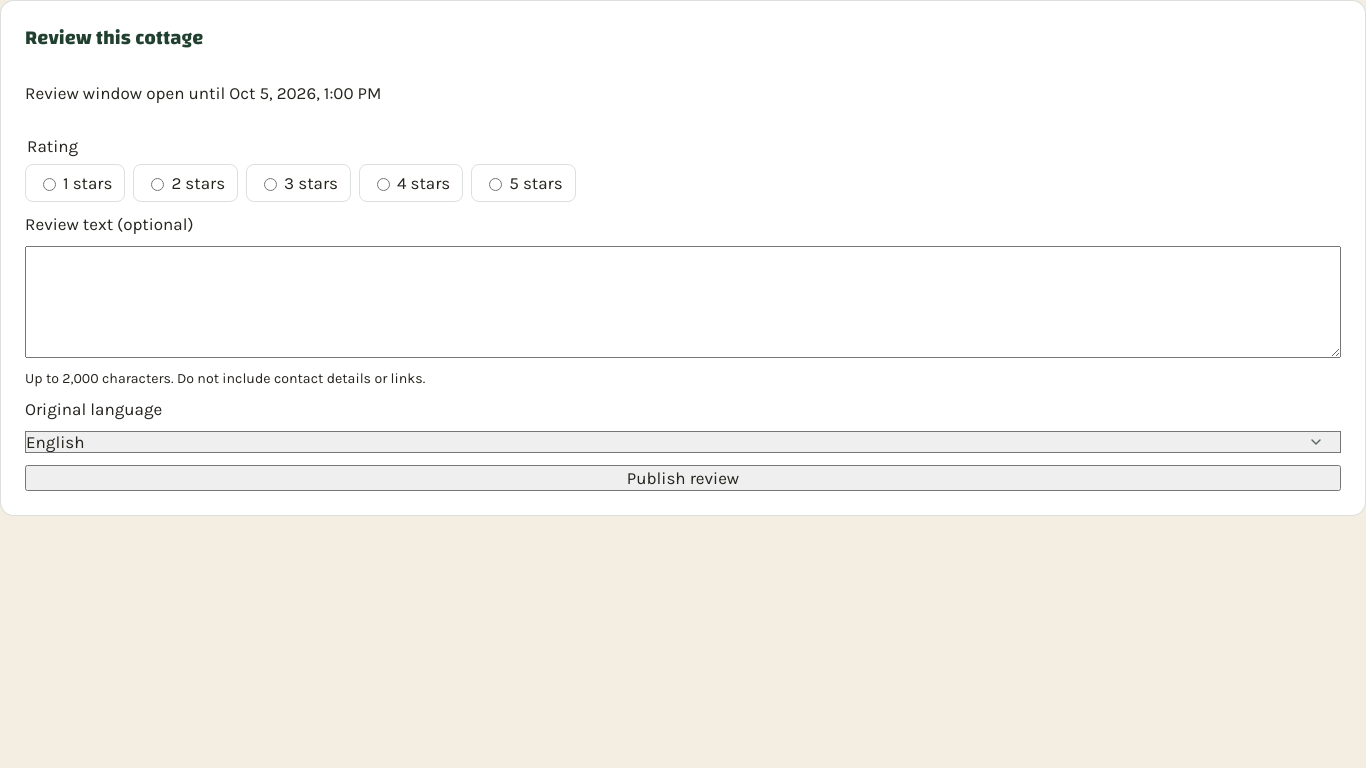
Test: CustomerReviewForm › requires a rating and sends only mutation facts
Click the button "Publish review" at (683, 478), box x1=25 y1=465 x2=1341 y2=491
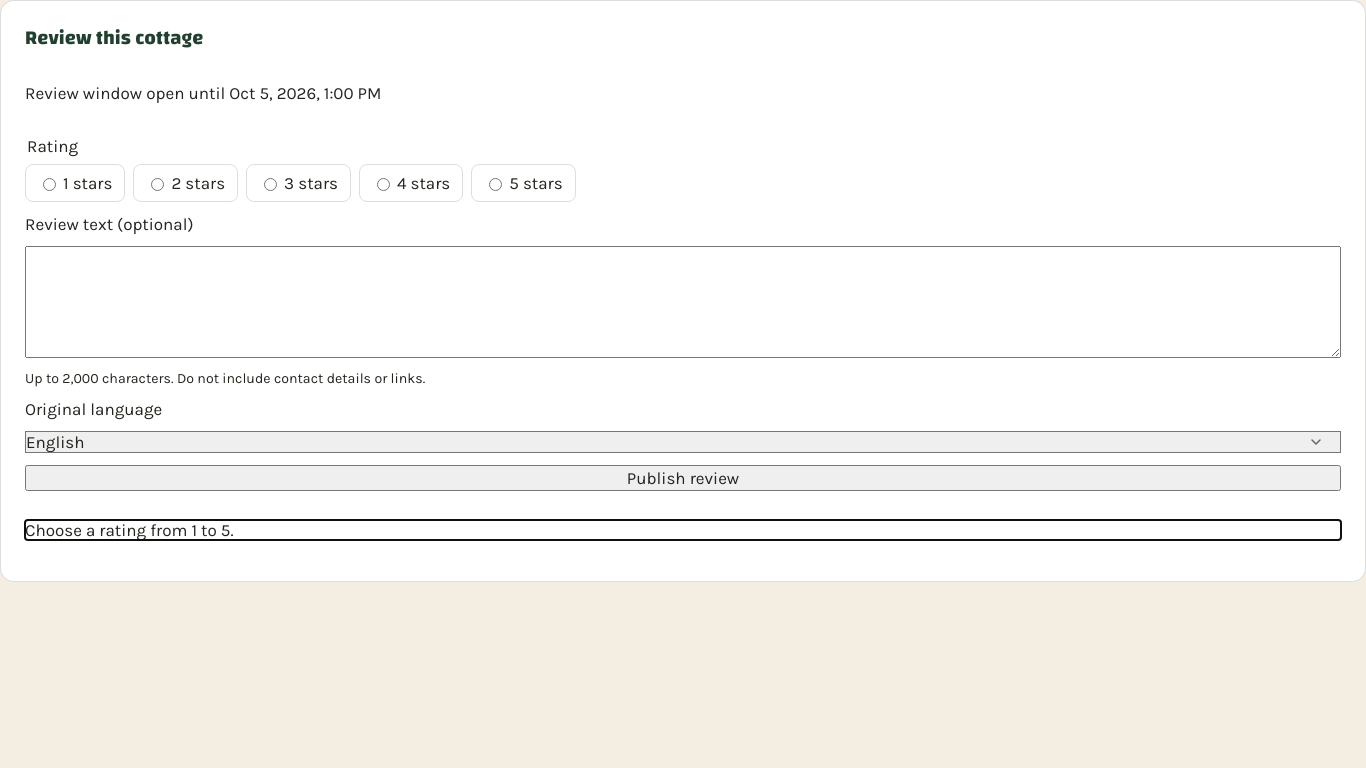
Expected: the message reads "Choose a rating from 1 to 5.", x1=25 y1=520 x2=233 y2=540
Click the radio button labelled "5 stars" at (496, 184), box x1=489 y1=178 x2=502 y2=191
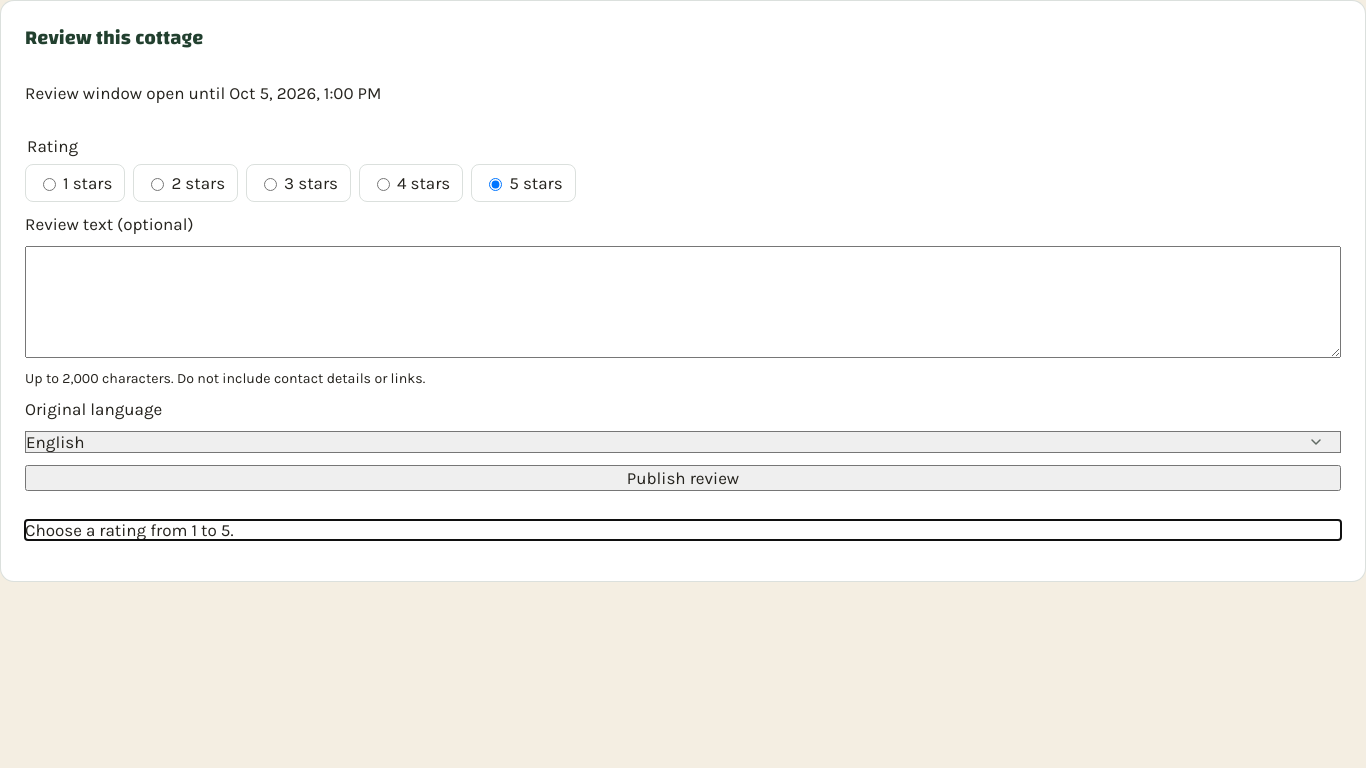
Type "إقامة هادئة وجميلة" into the text box labelled "Review text (optional)" at (683, 302), box x1=25 y1=246 x2=1341 y2=358
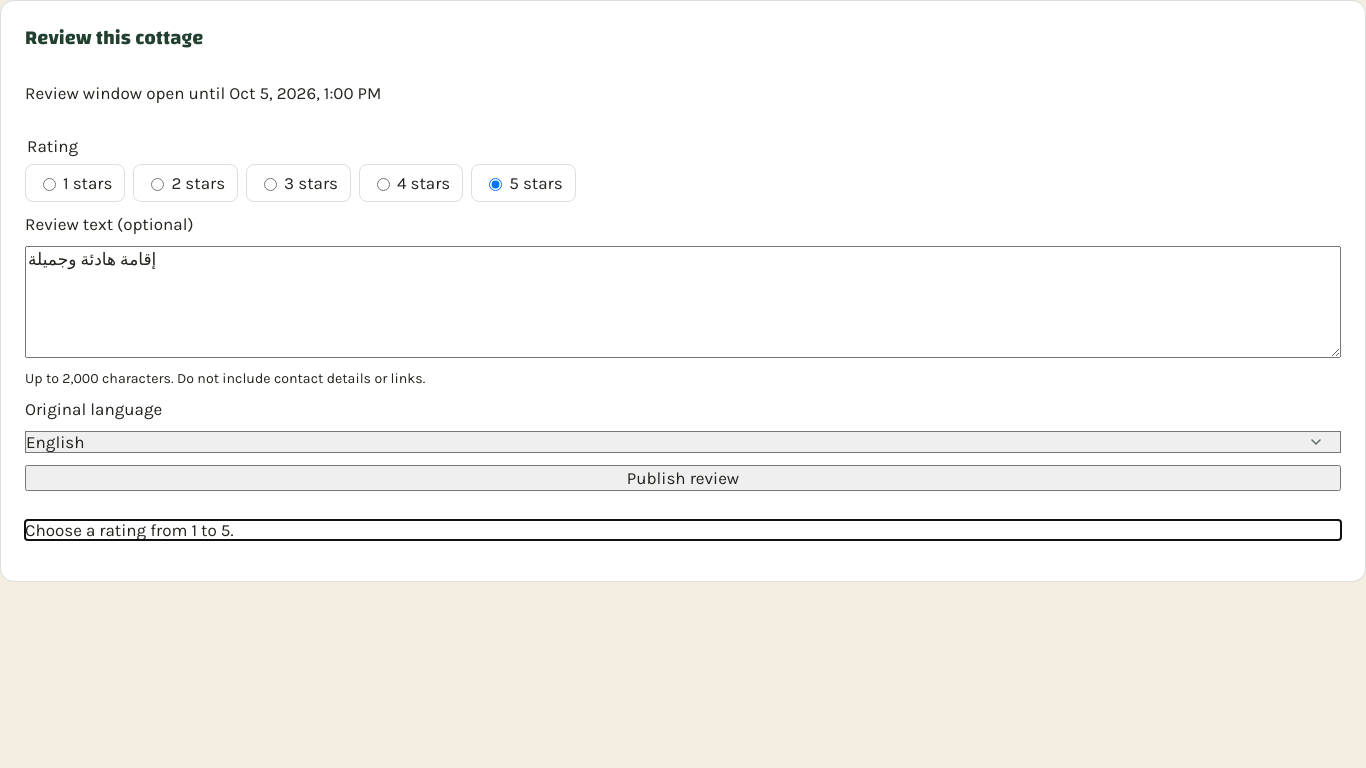
Select "العربية" in the dropdown labelled "Original language" at (683, 442), box x1=25 y1=431 x2=1341 y2=453
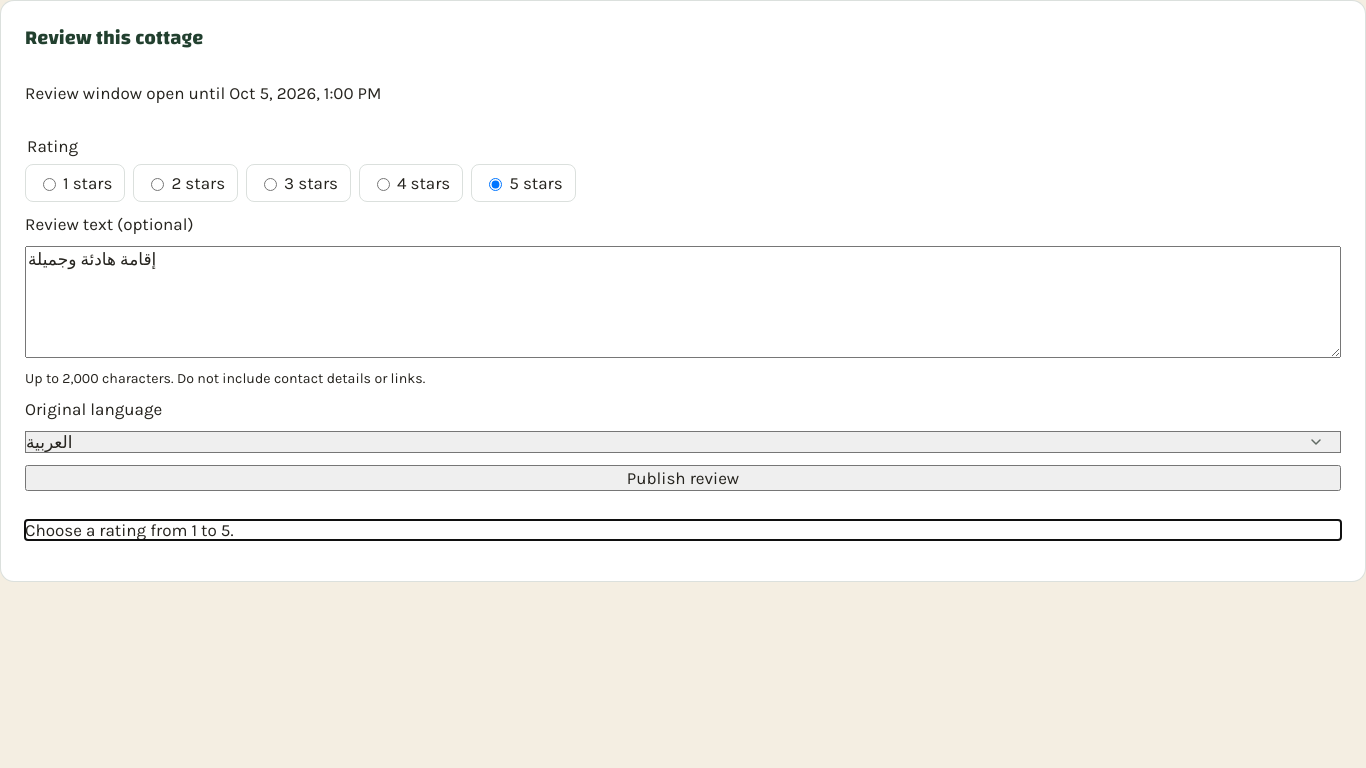
Click the button "Publish review" at (683, 478), box x1=25 y1=465 x2=1341 y2=491
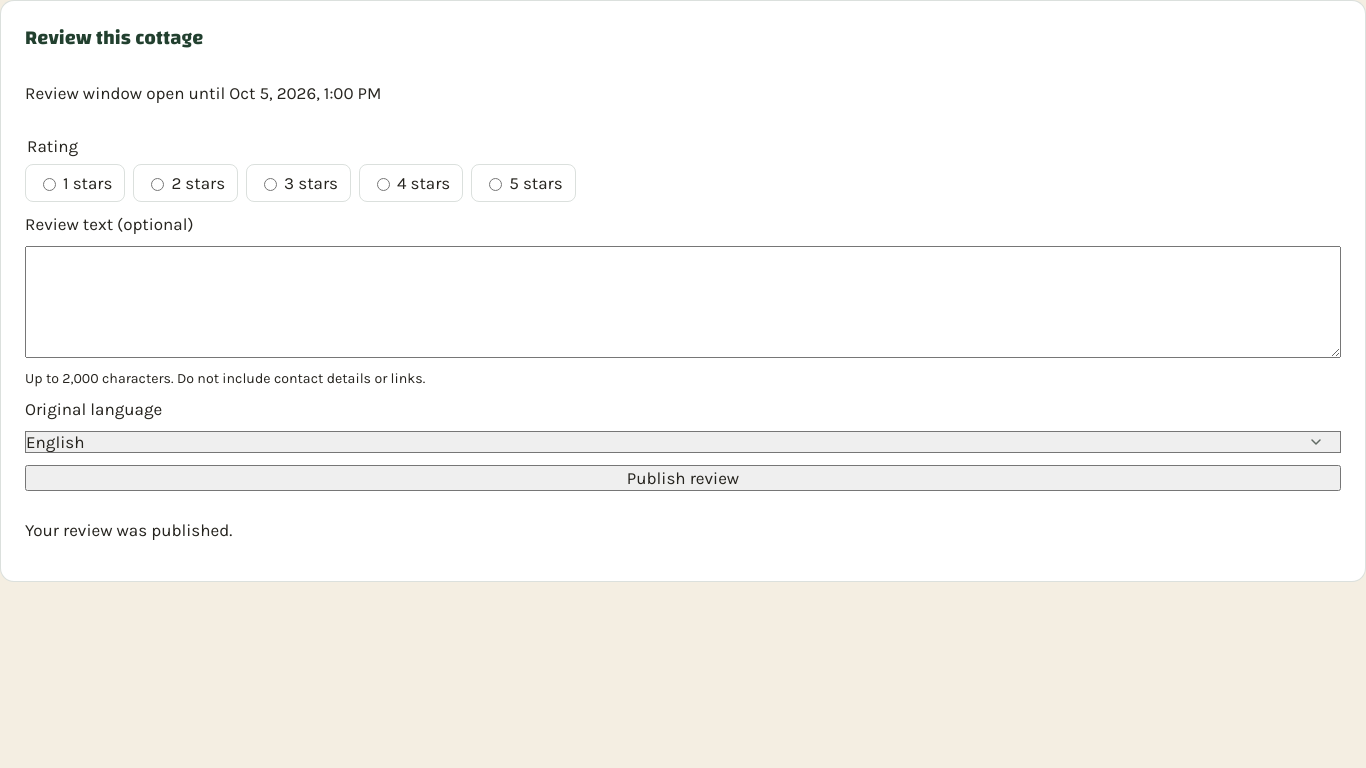
Expected: the message reads "Your review was published.", x1=25 y1=520 x2=232 y2=540
